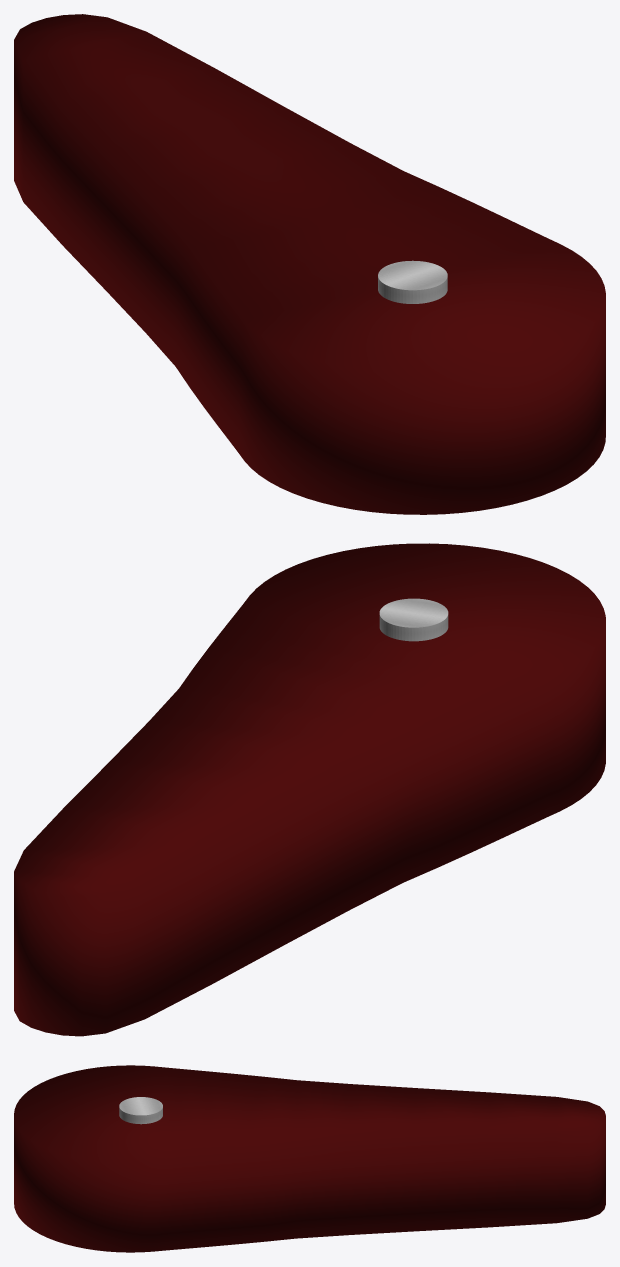
Rendered from flipper2.obj.
The picture shows the model from 3 angles, top to bottom: view 1: azimuth 30°, elevation 25°; view 2: azimuth 150°, elevation 25°; view 3: azimuth 270°, elevation 25°; orthographic projection. The views are drawn at different scales.
Visible parts, largest first — view 1: Cylinder, Cylinder.001; view 2: Cylinder, Cylinder.001; view 3: Cylinder, Cylinder.001.
Part boxes in pixels (bbox=[...]): Cylinder: bbox=[14, 14, 605, 514]; Cylinder.001: bbox=[378, 260, 447, 303]; Cylinder: bbox=[14, 543, 605, 1036]; Cylinder.001: bbox=[379, 598, 448, 641]; Cylinder: bbox=[14, 1065, 605, 1252]; Cylinder.001: bbox=[119, 1097, 162, 1124].
Size of the model in its own units: 2 by 0.9202 by 5.08.
